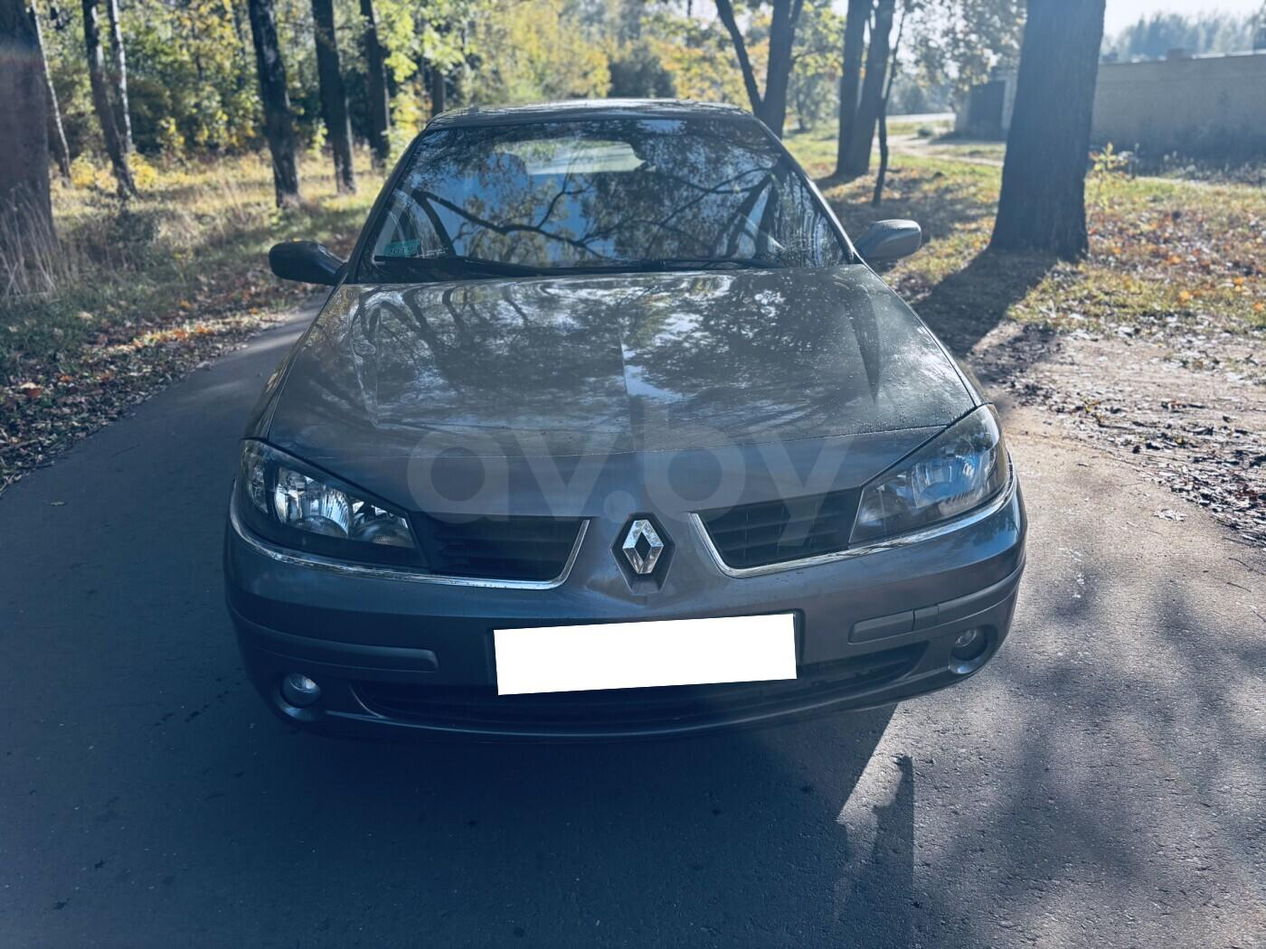Laguna_2005-2007: (227, 98, 1039, 750)
